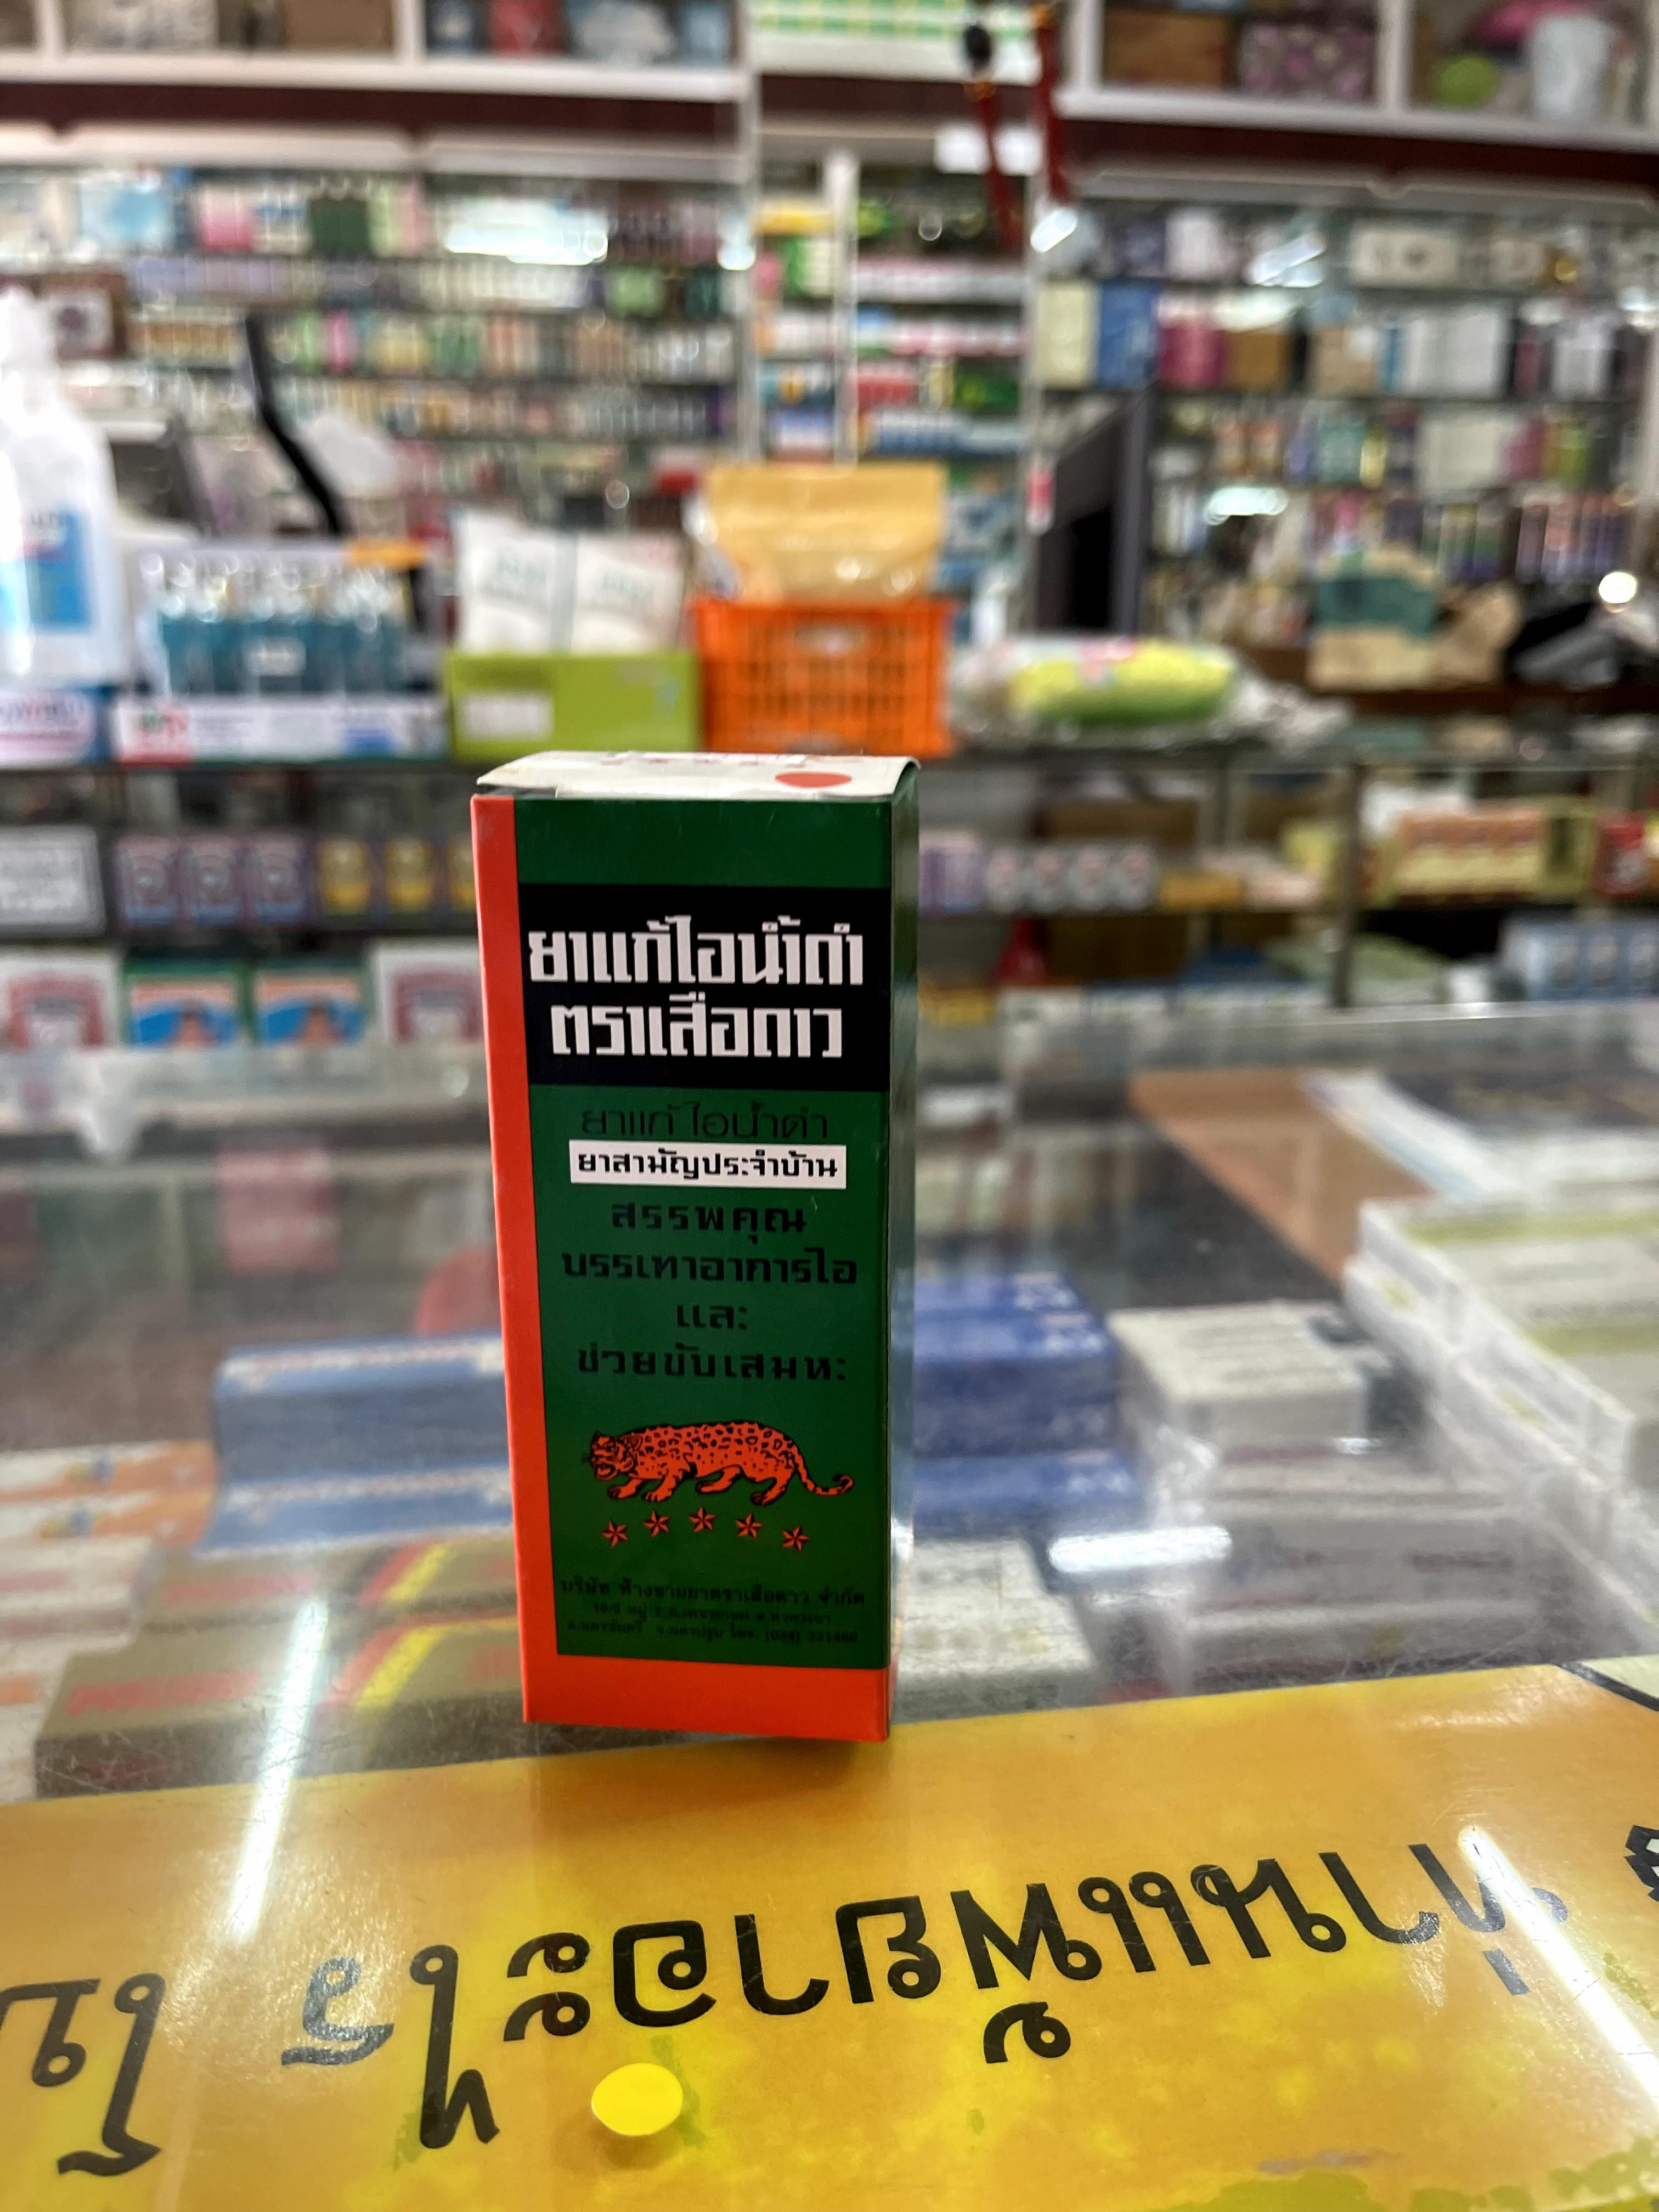Black-Tiger: (477, 754, 917, 1733)
